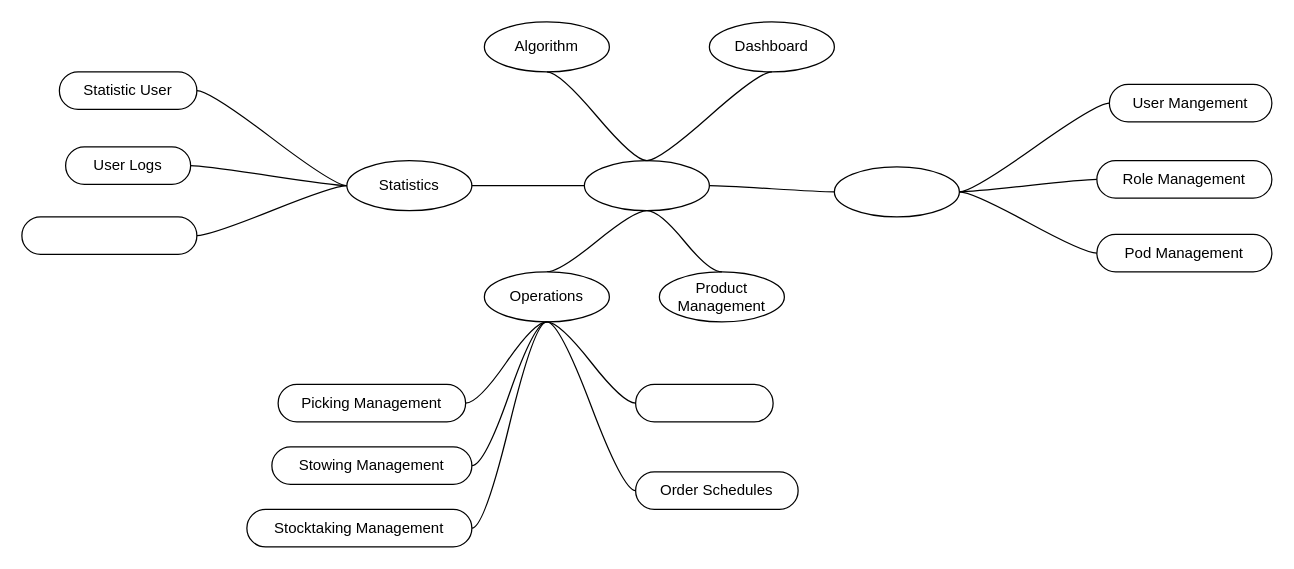
The diagram is 1294 pixels wide and 569 high, and some of its shapes have lost their labels. Each missing label, with the centre of its shape:
"Statistic Operation" belongs at (109,235).
"Supervise Management" belongs at (646,185).
"System Settings" belongs at (896,191).
"Task Queries" belongs at (703,402).
